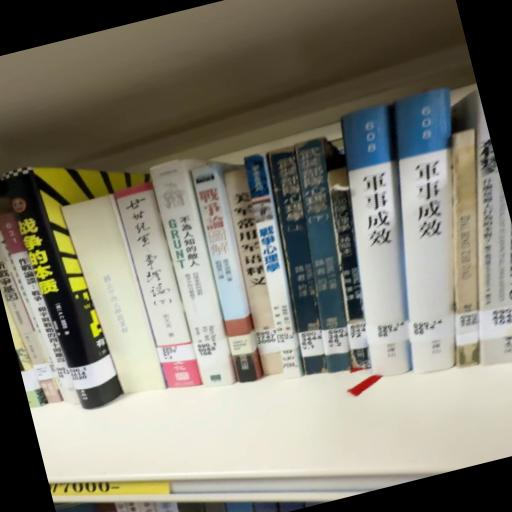backward: (62, 192, 168, 403)
book: (353, 97, 512, 378), (307, 102, 453, 385), (153, 155, 254, 392), (256, 144, 351, 376), (110, 179, 205, 402)
